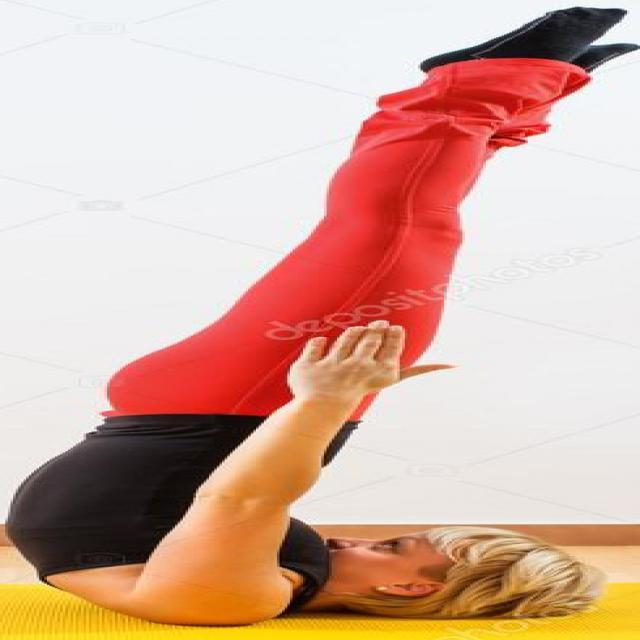yoga-pose shoulderstand: (6, 1, 623, 624)
